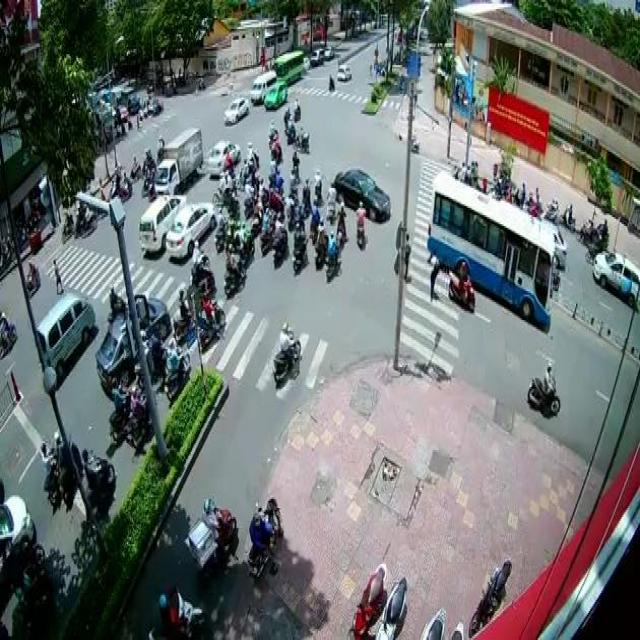bus: (427, 168, 552, 333)
car: (94, 293, 170, 396), (333, 165, 391, 222), (164, 199, 216, 262), (138, 193, 186, 255), (591, 250, 639, 308), (203, 136, 241, 176), (221, 94, 249, 125), (264, 80, 288, 110)
motorcycle: (188, 497, 238, 586), (245, 496, 284, 580), (148, 586, 206, 638), (80, 445, 115, 517), (271, 318, 300, 383), (525, 362, 559, 416), (126, 385, 154, 448), (109, 374, 133, 447), (199, 289, 225, 353), (165, 338, 190, 403), (170, 288, 197, 342), (447, 258, 474, 312), (222, 241, 246, 300), (271, 208, 288, 266), (290, 219, 308, 273), (323, 228, 341, 280), (211, 168, 237, 204), (313, 213, 327, 270), (0, 309, 16, 358), (258, 206, 274, 255), (24, 256, 41, 296), (354, 199, 366, 249), (334, 199, 346, 244), (60, 208, 74, 244)
truck: (34, 291, 96, 385), (152, 125, 202, 195), (249, 67, 275, 105)
